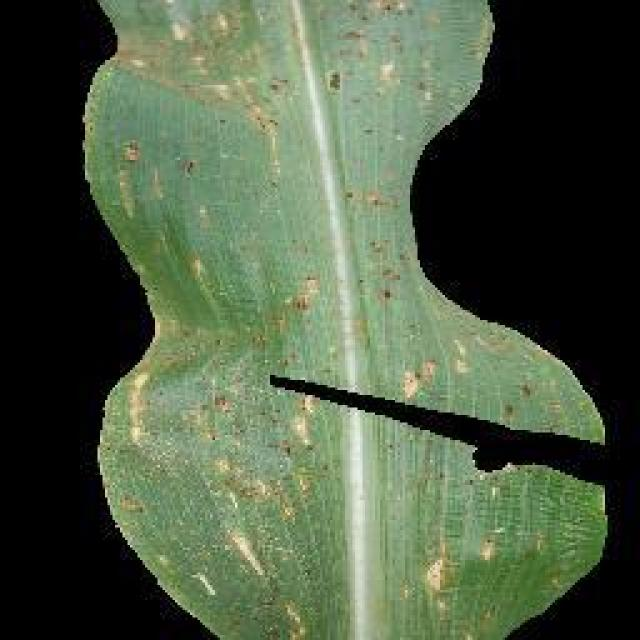Corn Common Rust: (112, 33, 515, 520)
